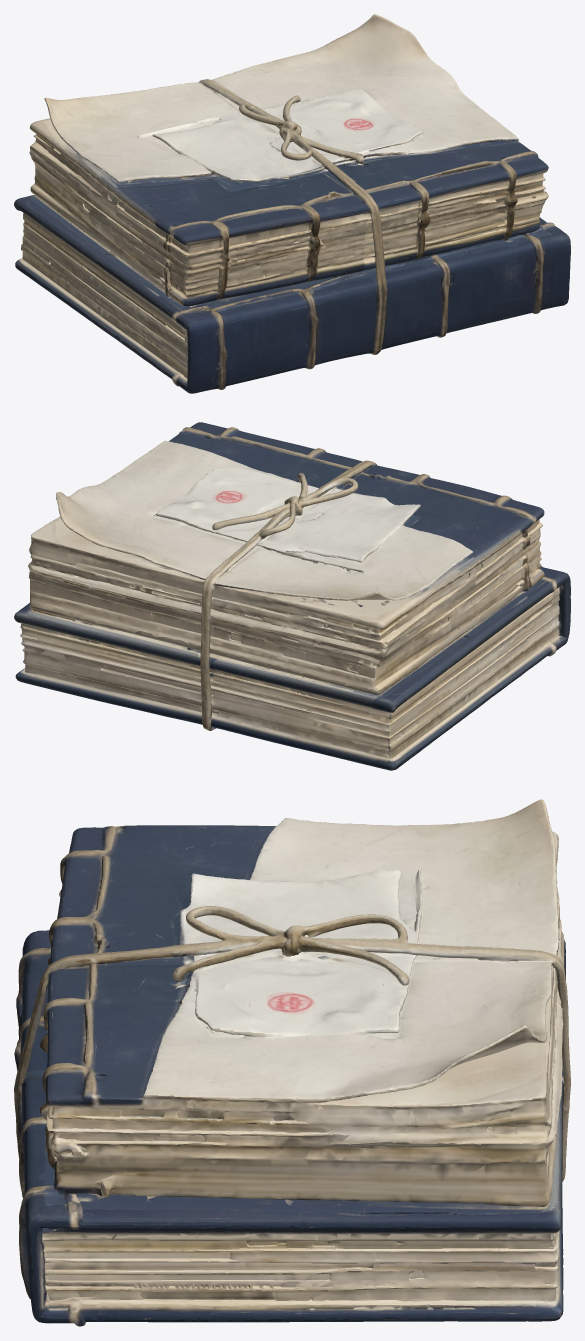
Rendered from S1-09_ledger_volume_A.glb.
The picture shows the model from 3 angles, top to bottom: view 1: azimuth 30°, elevation 25°; view 2: azimuth 150°, elevation 25°; view 3: azimuth 270°, elevation 25°; orthographic projection. The views are drawn at different scales.
Parts seen in each view (by area): view 1: geometry_0; view 2: geometry_0; view 3: geometry_0.
Part boxes in pixels (bbox=[...]): geometry_0: bbox=[14, 14, 570, 393]; geometry_0: bbox=[14, 422, 570, 770]; geometry_0: bbox=[14, 799, 570, 1326].
Bounding box in the file's own units: 0.42 × 0.1941 × 0.3485.
1 material, 1 textured.
